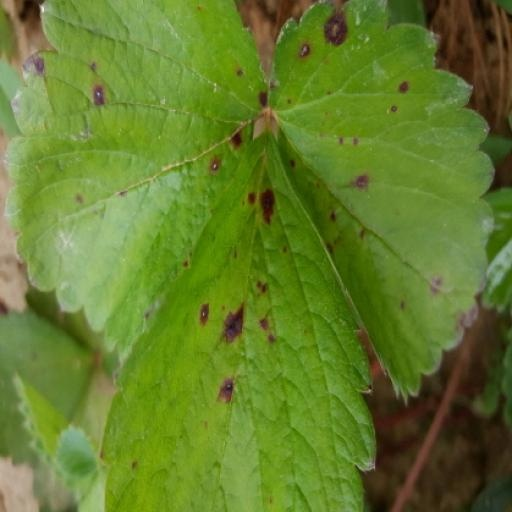Leaf Spot: (97, 0, 378, 383), (0, 145, 268, 511), (268, 104, 497, 511), (0, 40, 102, 207)
